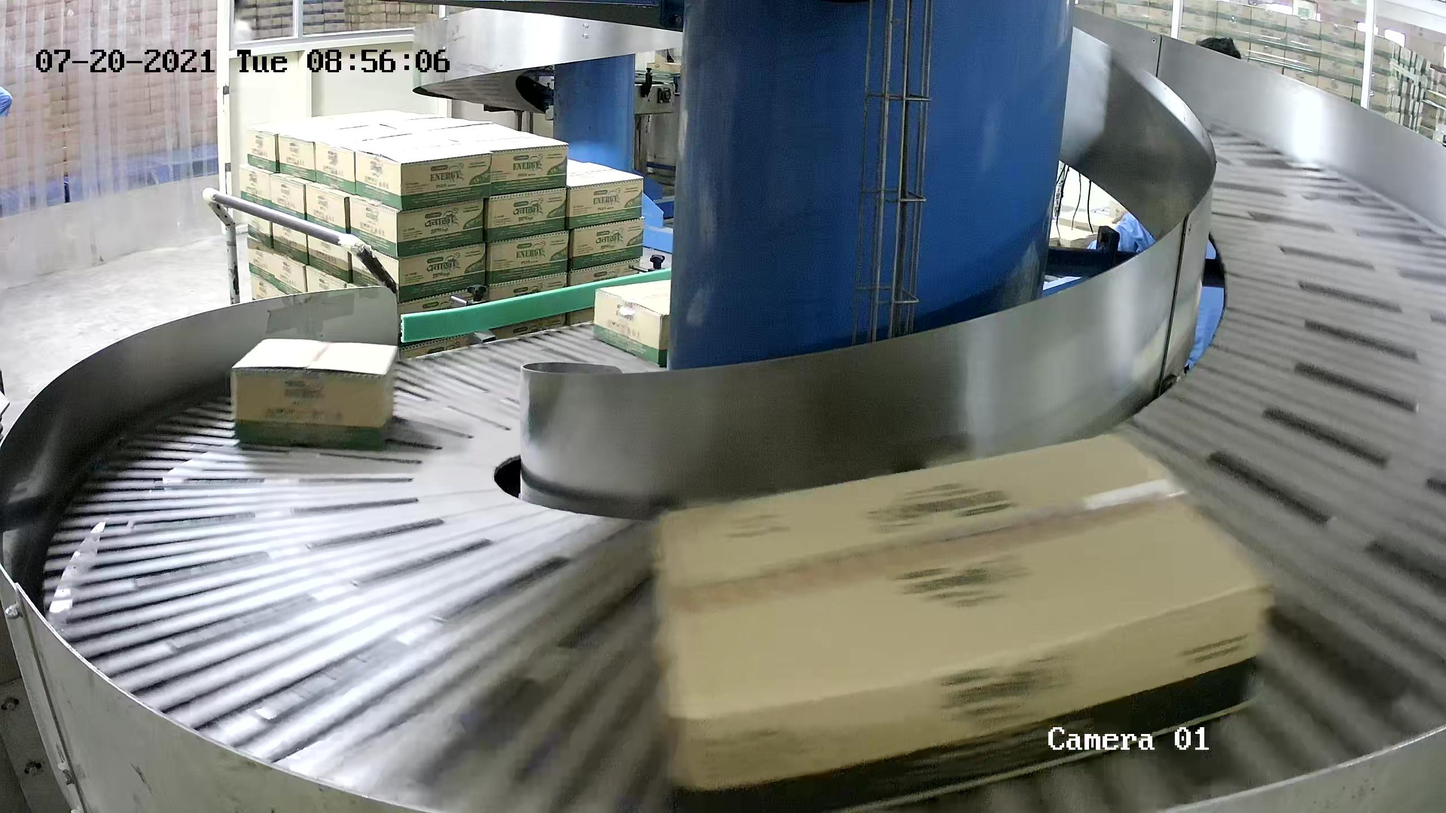Box: (645, 427, 1274, 813), (229, 338, 400, 451), (592, 279, 671, 367)
